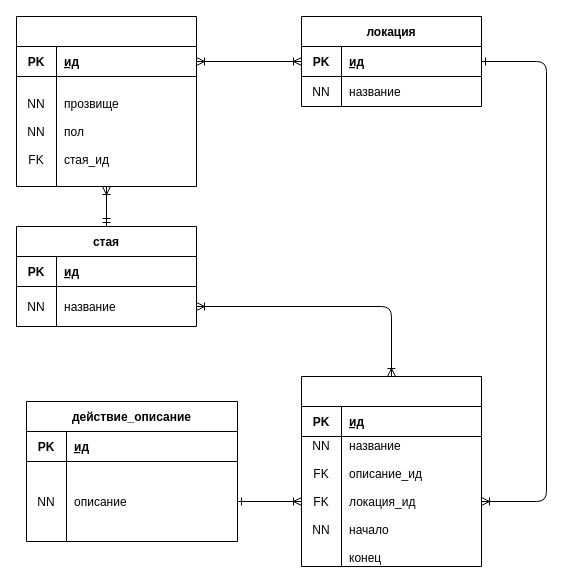
Some shapes in this 563 by 583 pixel diagram are drawn without their labels. The shapes that lost their labels are listed below. From the top down, each one's box as (x1, y1, x2, y2) in pixels, then its label:
(16, 16, 196, 186): питекантроп
(300, 376, 482, 566): действие
